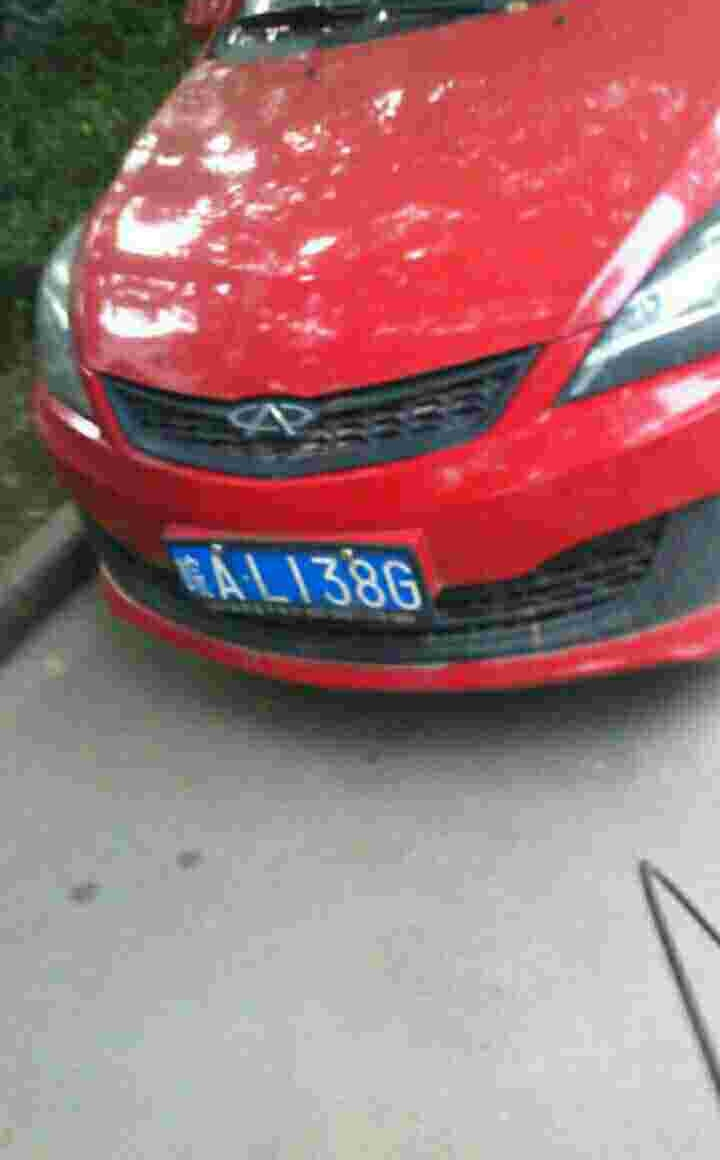license_plate: (176, 543, 434, 605)
